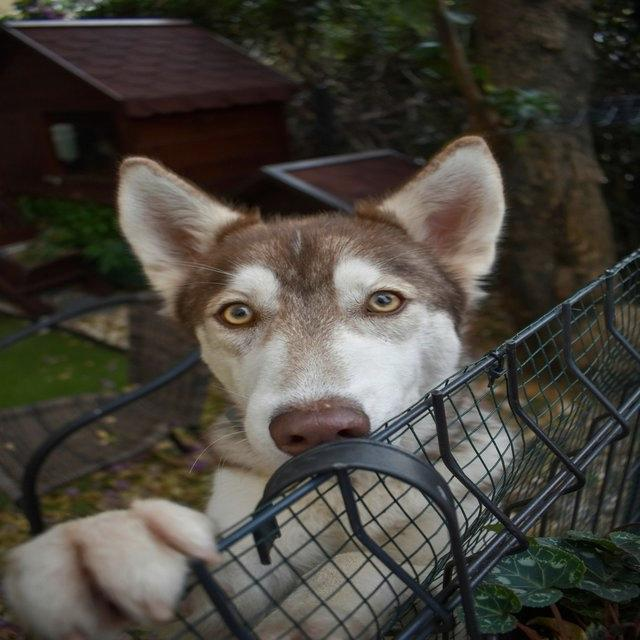husky: (0, 126, 529, 640)
